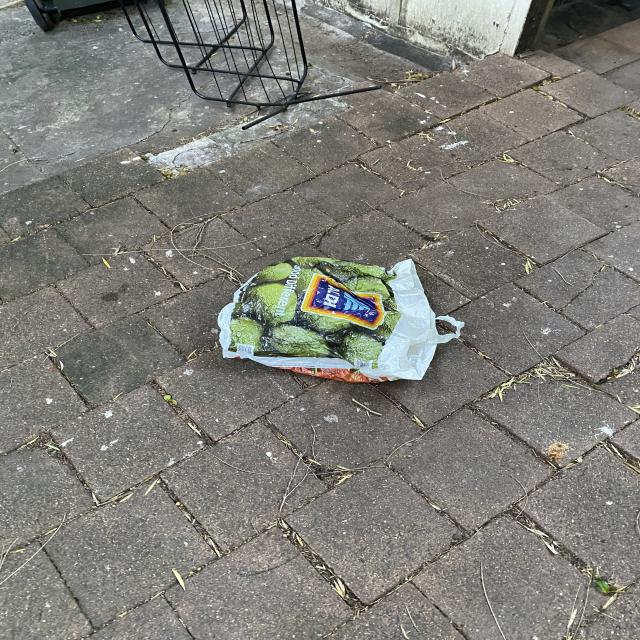bag: (217, 254, 466, 384)
